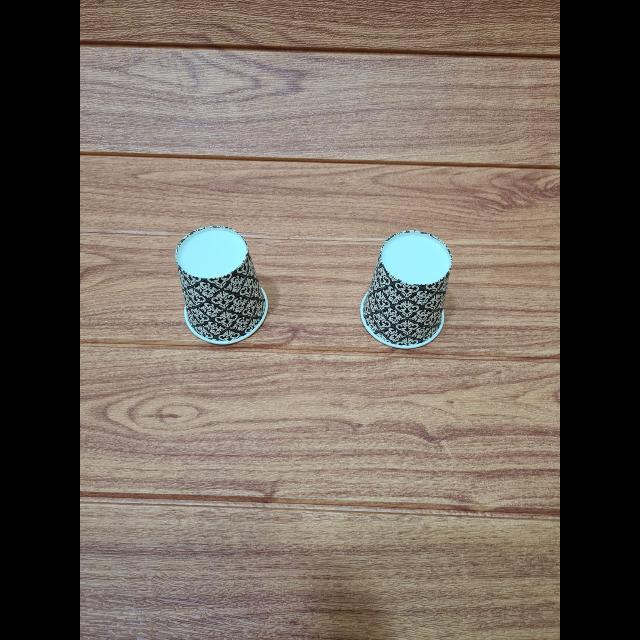trash: (357, 226, 463, 350), (176, 227, 272, 343)
